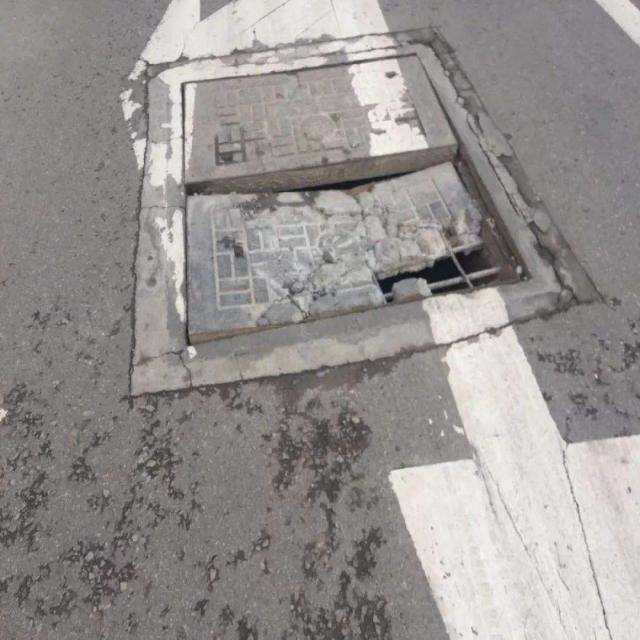Faulty: (167, 44, 567, 357)
